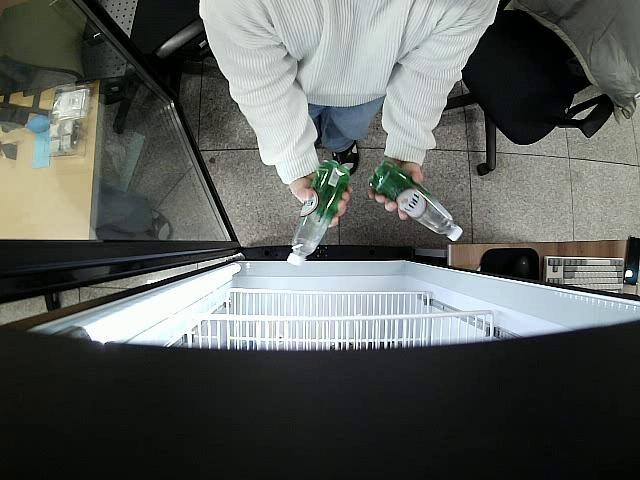18_trevi: (370, 158, 463, 244), (287, 157, 348, 268)
